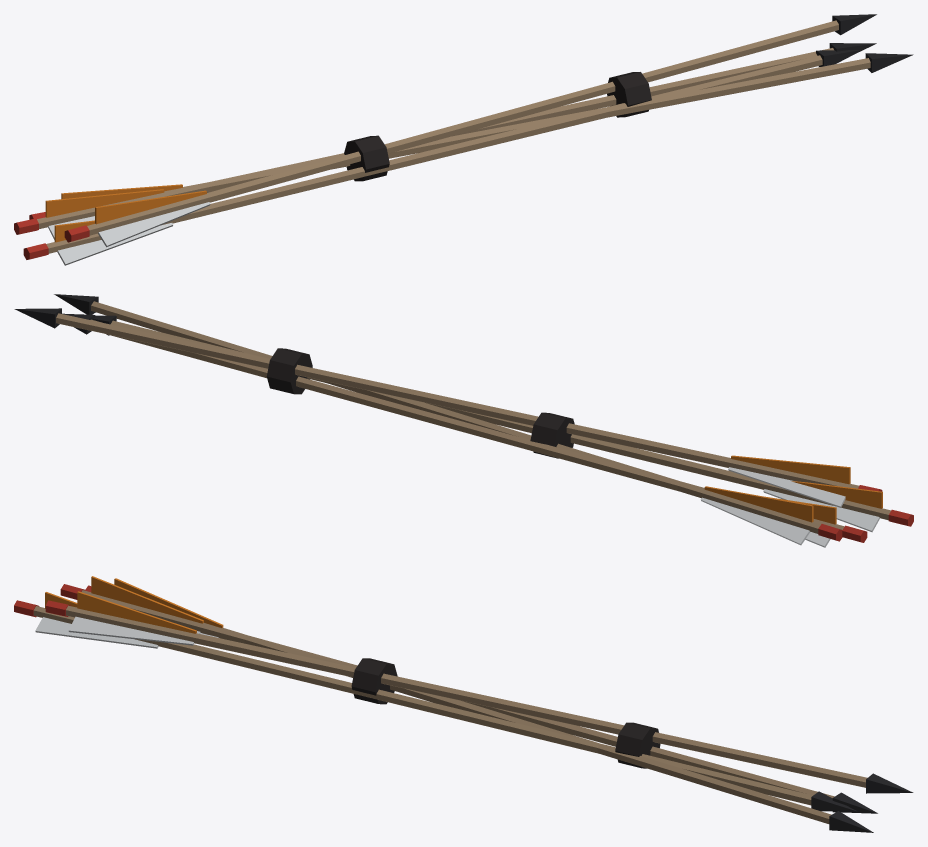
The model's file is arrow_bundle.glb.
3 views of the same model, one above another, from view 1: azimuth 30°, elevation 25°; view 2: azimuth 150°, elevation 25°; view 3: azimuth 330°, elevation 25° (orthographic).
Parts seen in each view (by area): view 1: Item; view 2: Item; view 3: Item.
Boxes of the visible parts, <box> form: Item: <box>14,14,913,265</box>; Item: <box>14,294,913,547</box>; Item: <box>14,576,913,832</box>.
Bounding box in the file's own units: 0.951 × 0.0507 × 0.1142.
